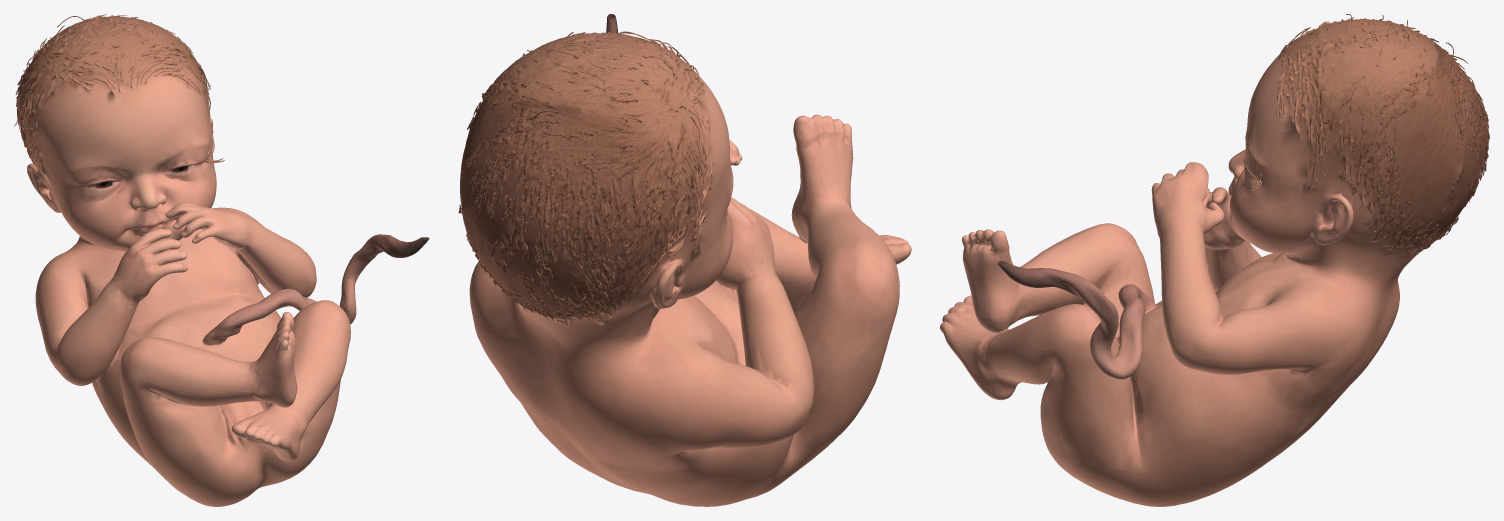
Rendered from semaine-30.glb.
The picture shows the model from 3 angles, left to right: view 1: azimuth 30°, elevation 25°; view 2: azimuth 150°, elevation 25°; view 3: azimuth 270°, elevation 25°; orthographic projection. The views are drawn at different scales.
Bounding box in the file's own units: 1.17 × 1.71 × 1.9.
1 material, 1 textured.
